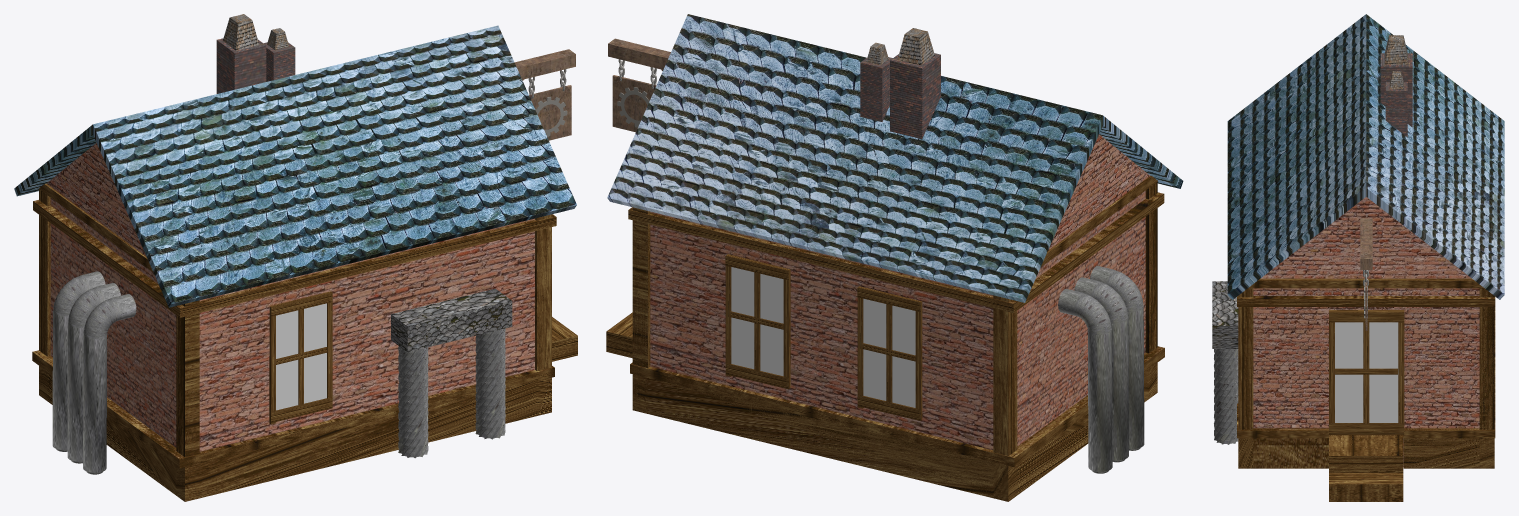
The model's file is little tavern guy.fbx.
3 renders of one model, left to right at view 1: azimuth 30°, elevation 25°; view 2: azimuth 150°, elevation 25°; view 3: azimuth 270°, elevation 25°, orthographic. The views are drawn at different scales.
Visible parts, largest first — view 1: Cube.002; view 2: Cube.002; view 3: Cube.002.
Boxes of the visible parts, x1,y1,x2,y2 form: Cube.002: (14,14,577,501); Cube.002: (606,14,1183,501); Cube.002: (1212,14,1504,501).
Bounding box in the file's own units: 12.27 × 8.96 × 7.02.
